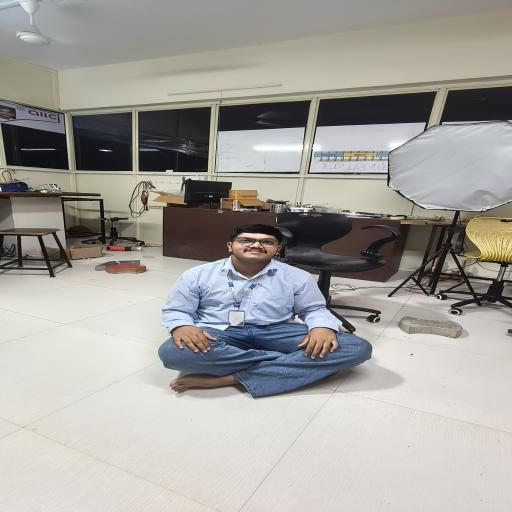survivor: (157, 223, 374, 398)
